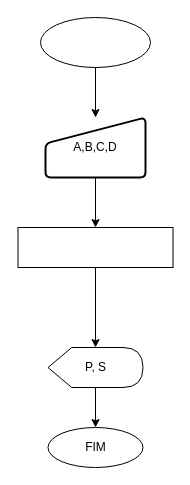
This 190x485 diagram has some shape labels left out. The centre of each missing label's shape, as x and y in pixels:
"INICIO" belongs at (95,42).
"P<-A*C S<-B+D" belongs at (95,247).
